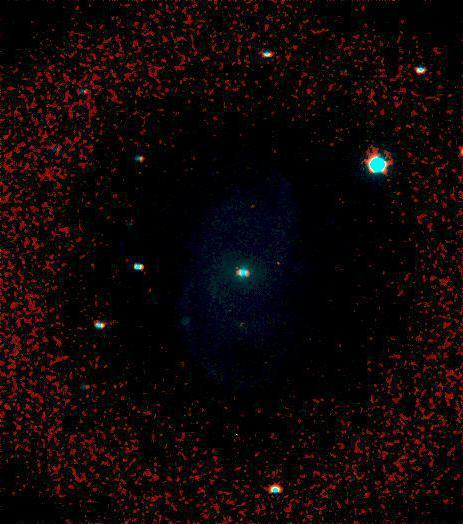star: (262, 248, 292, 278)
